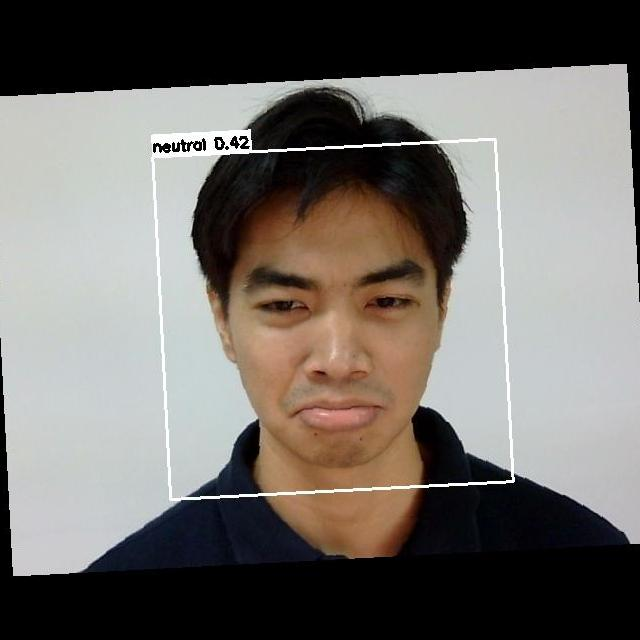Sad: (216, 228, 442, 438)
